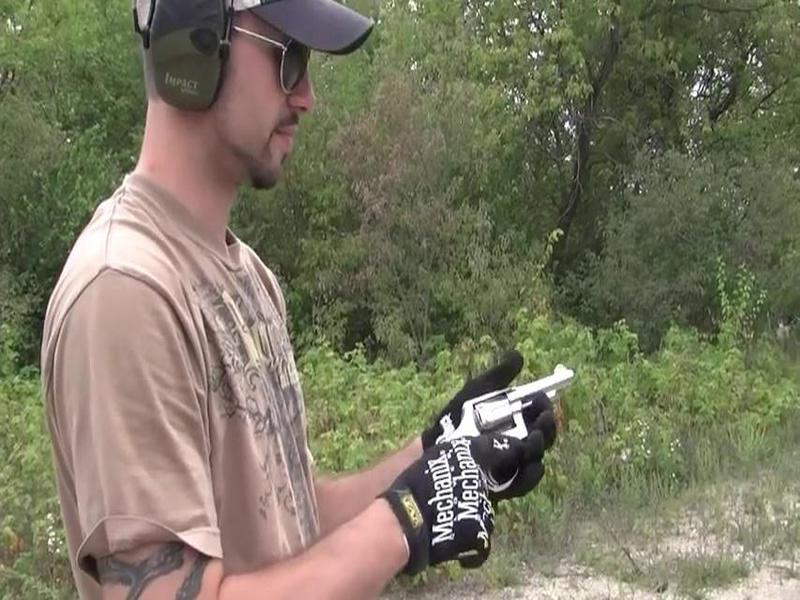Revolver: (429, 351, 584, 493)
